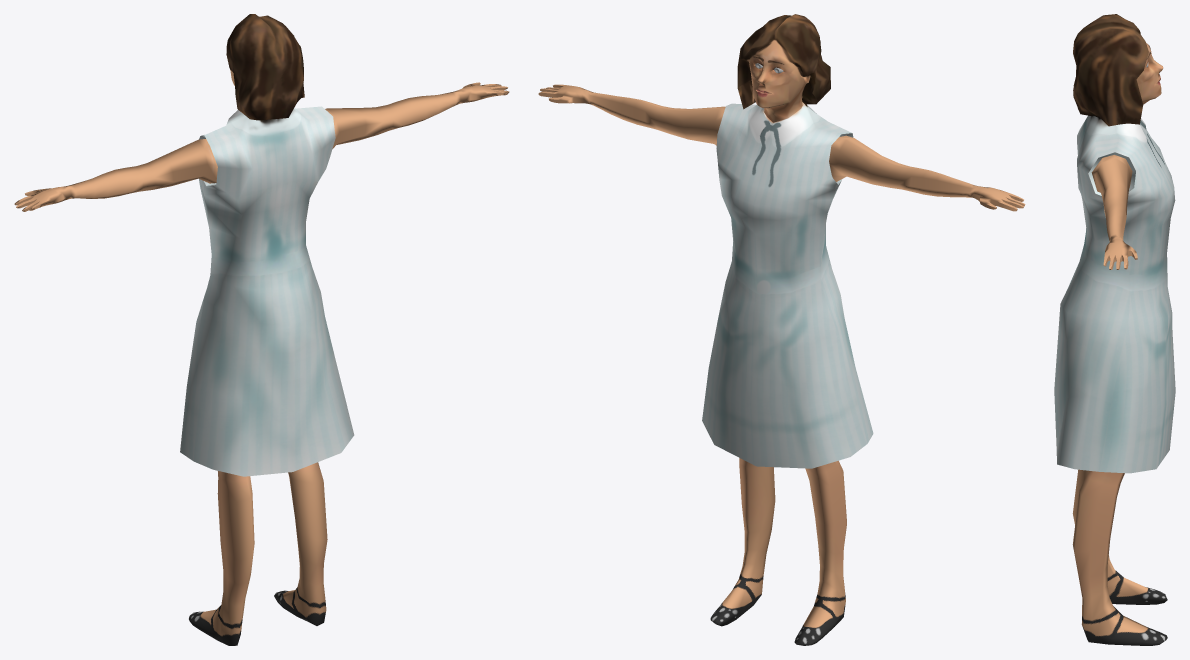
Rendered from margaretTheMad.fbx.
3 renders of one model, left to right at view 1: azimuth 30°, elevation 25°; view 2: azimuth 150°, elevation 25°; view 3: azimuth 270°, elevation 25°, orthographic.
Visible parts, largest first — view 1: margaret; view 2: margaret; view 3: margaret.
Boxes of the visible parts, x1=… form: margaret: x1=14, y1=14, x2=509, y2=645; margaret: x1=538, y1=14, x2=1025, y2=645; margaret: x1=1054, y1=14, x2=1175, y2=645.
Bounding box in the file's own units: 1.69 × 2.01 × 0.3672.
